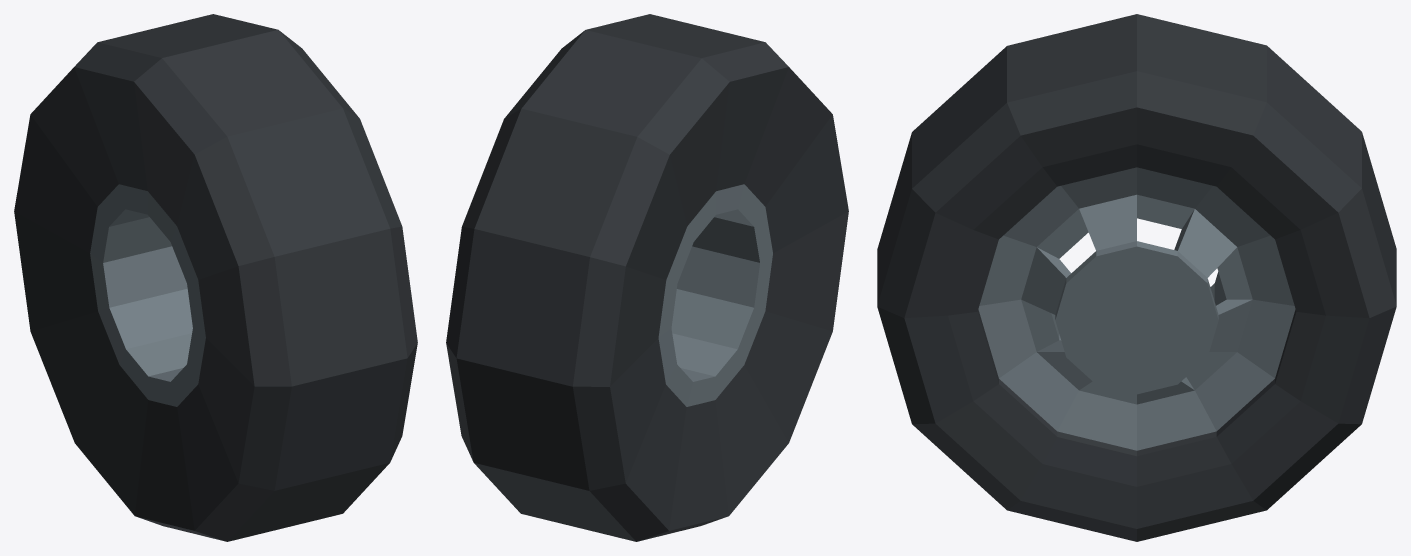
File: SM_Prop_Cart_Wood_WHeel_l.glb
3 views of the same model, side by side, from view 1: azimuth 30°, elevation 25°; view 2: azimuth 150°, elevation 25°; view 3: azimuth 270°, elevation 25° (orthographic).
Parts seen in each view (by area): view 1: SM_Prop_Cart_Wood_WHeel_l; view 2: SM_Prop_Cart_Wood_WHeel_l; view 3: SM_Prop_Cart_Wood_WHeel_l.
Boxes of the visible parts, x1,y1,x2,y2 form: SM_Prop_Cart_Wood_WHeel_l: (14,14,417,541); SM_Prop_Cart_Wood_WHeel_l: (446,14,848,541); SM_Prop_Cart_Wood_WHeel_l: (877,14,1396,541).
Size of the model in its own units: 0.3073 by 0.7952 by 0.7952.
1 material, 1 textured.
